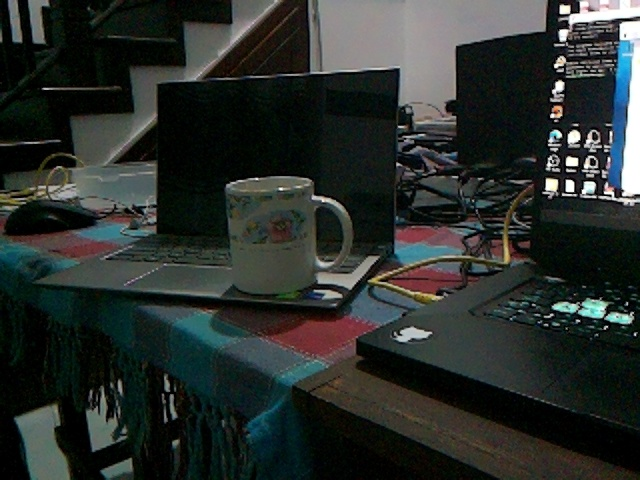mug: (219, 174, 355, 297)
